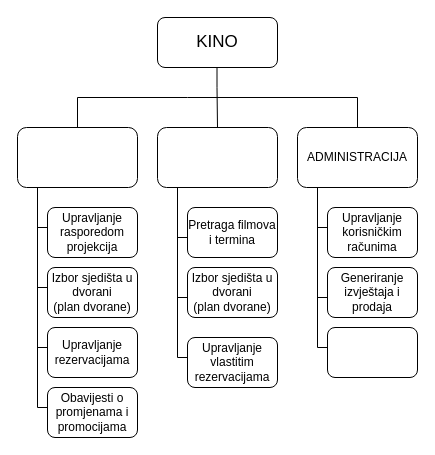
Some shapes in this 435 by 455 pixel diagram are drawn without their labels. The centre of each missing label's shape, as x and y in pixels:
"OSOBLJE" goes at pixel 77 157.
"POSJETITELJI" goes at pixel 217 157.
"Upravljanje promjenama rasporeda" goes at pixel 372 352.
